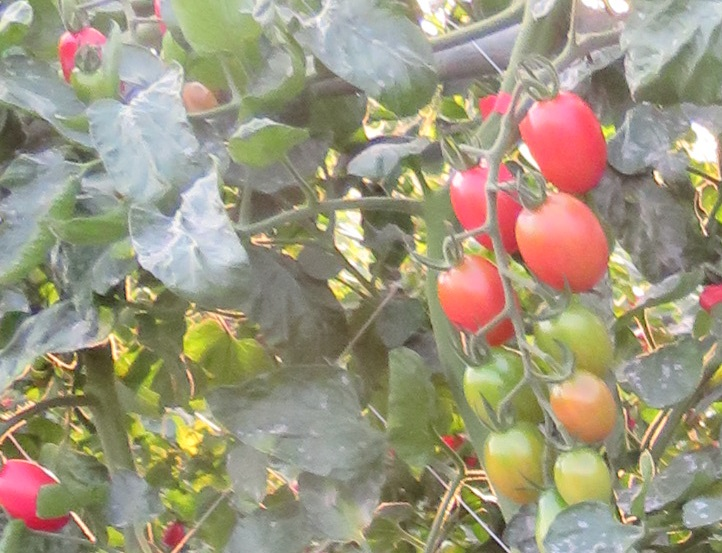green: (533, 297, 617, 376), (459, 342, 546, 417), (546, 365, 623, 444), (483, 428, 554, 504), (554, 442, 614, 508)
orange: (510, 192, 611, 291), (433, 254, 520, 343)
red: (520, 88, 611, 193), (448, 159, 525, 252), (1, 461, 80, 533)
